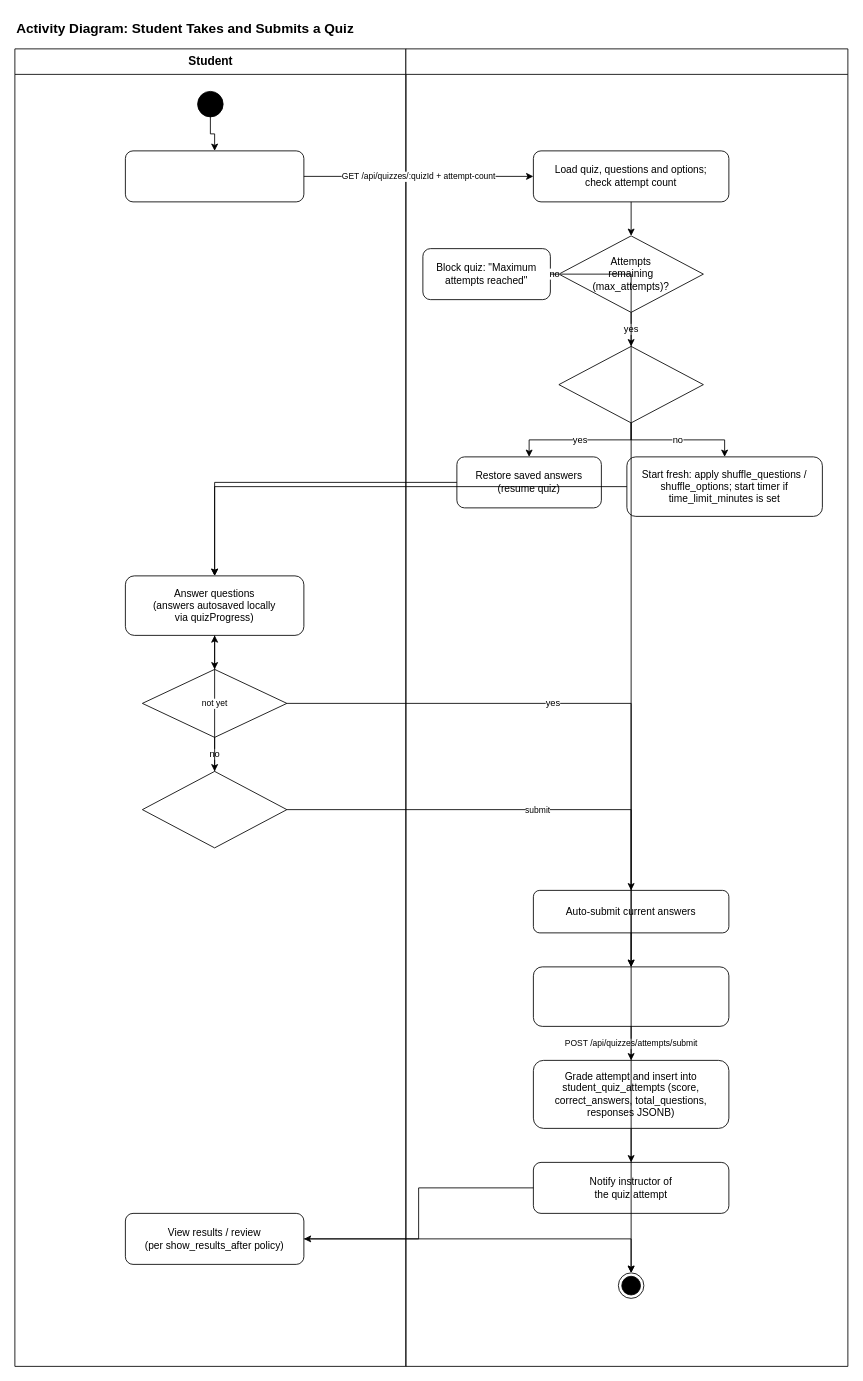
Image size: 863x1381. Some labels were removed from this diagram. Here are the shapes that lost their labels. From the top down, the box of each, then its label:
(125, 150, 304, 202): Open Pending Quizzes (/student/quiz) and select a quiz
(558, 346, 703, 423): Saved local progress exists?
(142, 669, 287, 737): Time limit expired?
(405, 48, 848, 1366): EduAIGames System
(142, 771, 287, 848): All questions answered and student clicks Submit?
(533, 966, 729, 1026): Verify class membership (canStudentAccessQuiz) and re-check max_attempts
